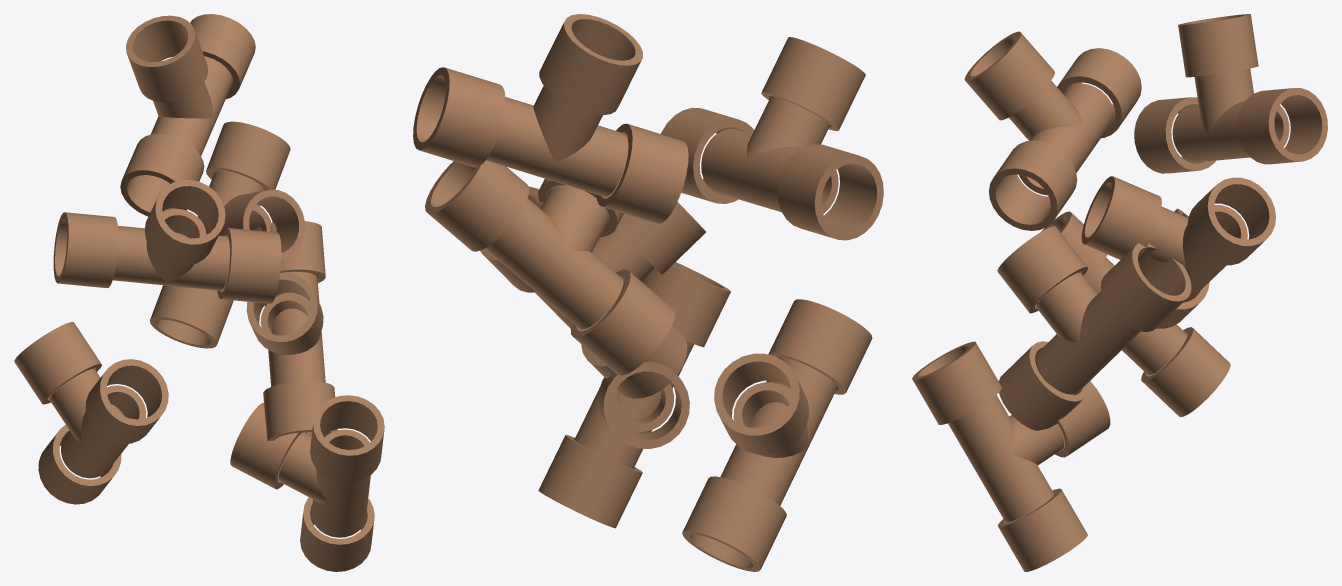
File: HID-CNX-003_anim.glb
3 views of the same model, side by side, from view 1: azimuth 30°, elevation 25°; view 2: azimuth 150°, elevation 25°; view 3: azimuth 270°, elevation 25° (orthographic). The views are drawn at different scales.
Parts seen in each view (by area): view 1: HID-CNX-003_anim4, HID-CNX-003_anim5, HID-CNX-003_anim0, HID-CNX-003_anim1, HID-CNX-003_anim3, HID-CNX-003_anim2; view 2: HID-CNX-003_anim5, HID-CNX-003_anim4, HID-CNX-003_anim1, HID-CNX-003_anim3, HID-CNX-003_anim0, HID-CNX-003_anim2; view 3: HID-CNX-003_anim2, HID-CNX-003_anim4, HID-CNX-003_anim0, HID-CNX-003_anim5, HID-CNX-003_anim3, HID-CNX-003_anim1.
Part boxes in pixels (left/top/right/bottom): HID-CNX-003_anim4: left=53, top=180, right=281, bottom=303; HID-CNX-003_anim5: left=120, top=14, right=255, bottom=216; HID-CNX-003_anim0: left=230, top=395, right=384, bottom=571; HID-CNX-003_anim1: left=14, top=322, right=168, bottom=504; HID-CNX-003_anim3: left=150, top=121, right=304, bottom=348; HID-CNX-003_anim2: left=246, top=221, right=337, bottom=449; HID-CNX-003_anim5: left=413, top=14, right=688, bottom=223; HID-CNX-003_anim4: left=661, top=37, right=883, bottom=240; HID-CNX-003_anim1: left=682, top=299, right=872, bottom=571; HID-CNX-003_anim3: left=425, top=160, right=674, bottom=375; HID-CNX-003_anim0: left=538, top=262, right=730, bottom=528; HID-CNX-003_anim2: left=480, top=186, right=705, bottom=398; HID-CNX-003_anim2: left=997, top=226, right=1191, bottom=430; HID-CNX-003_anim4: left=964, top=31, right=1141, bottom=230; HID-CNX-003_anim0: left=912, top=341, right=1110, bottom=571; HID-CNX-003_anim5: left=1134, top=14, right=1327, bottom=173; HID-CNX-003_anim3: left=1081, top=176, right=1275, bottom=328; HID-CNX-003_anim1: left=1041, top=208, right=1230, bottom=417.
Bounding box in the file's own units: 0.1486 × 0.2376 × 0.1739.
